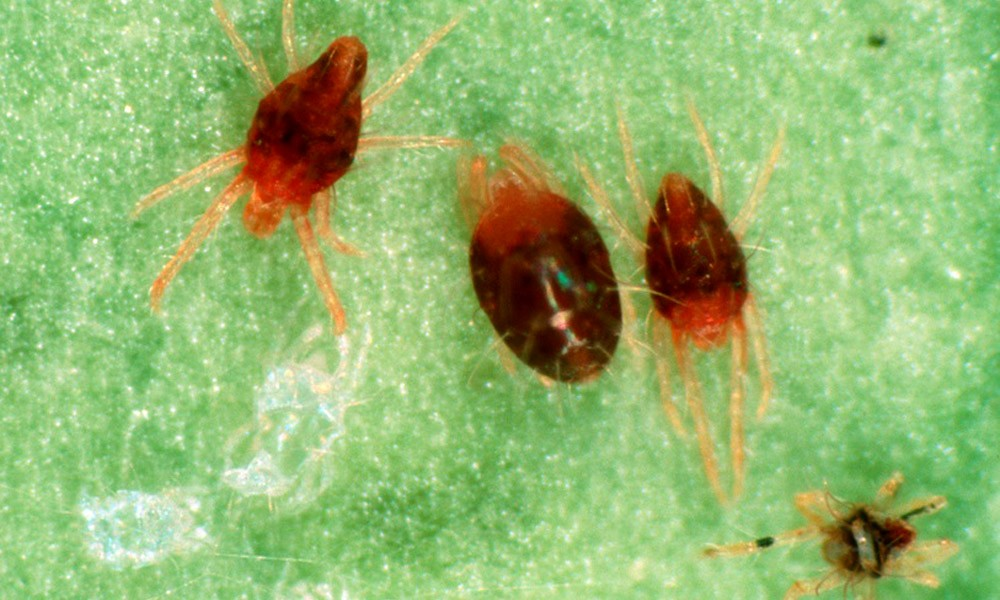Aracnido Rojo: (135, 3, 450, 358), (596, 101, 809, 512), (454, 120, 649, 426), (704, 461, 969, 600)
